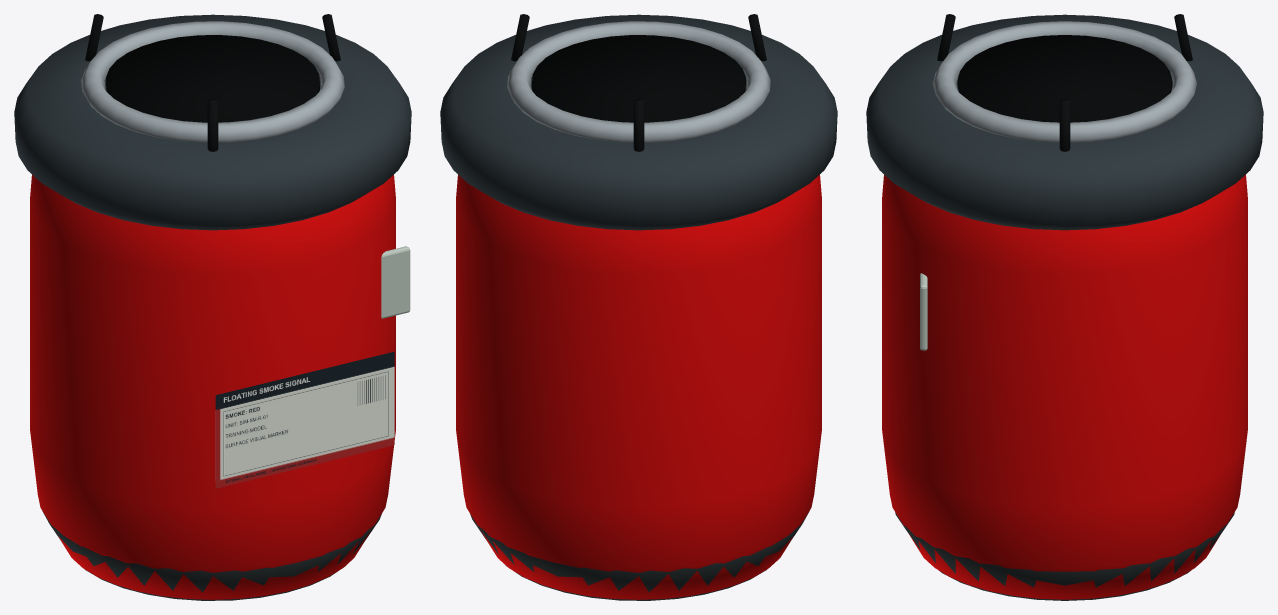
File: floating_smoke_signal_red.glb
The picture shows the model from 3 angles, left to right: view 1: azimuth 30°, elevation 25°; view 2: azimuth 150°, elevation 25°; view 3: azimuth 270°, elevation 25°; orthographic projection.
Parts seen in each view (by area): view 1: SMOKE_BODY, TOP_CAP_DARK, LABEL_SMOKE_ORANGE, GRAPHIC_EMISSION_OPENING, EMISSION_FINISH_RIM, LOWER_CONTRAST_BASE, TECHNICAL_PLATE, TOP_DECORATIVE_GUARD_3; view 2: SMOKE_BODY, TOP_CAP_DARK, GRAPHIC_EMISSION_OPENING, EMISSION_FINISH_RIM, LOWER_CONTRAST_BASE, TOP_DECORATIVE_GUARD_2; view 3: SMOKE_BODY, TOP_CAP_DARK, GRAPHIC_EMISSION_OPENING, EMISSION_FINISH_RIM, LOWER_CONTRAST_BASE, TOP_DECORATIVE_GUARD_1, TECHNICAL_PLATE.
Boxes of the visible parts, x1,y1,x2,y2 form: SMOKE_BODY: (30, 175, 395, 599); TOP_CAP_DARK: (14, 14, 411, 230); LABEL_SMOKE_ORANGE: (215, 351, 394, 488); GRAPHIC_EMISSION_OPENING: (106, 35, 319, 122); EMISSION_FINISH_RIM: (81, 21, 344, 142); LOWER_CONTRAST_BASE: (42, 511, 381, 600); TECHNICAL_PLATE: (381, 246, 410, 318); TOP_DECORATIVE_GUARD_3: (207, 99, 218, 151); SMOKE_BODY: (456, 175, 821, 599); TOP_CAP_DARK: (440, 14, 837, 230); GRAPHIC_EMISSION_OPENING: (532, 35, 745, 122); EMISSION_FINISH_RIM: (507, 21, 770, 142); LOWER_CONTRAST_BASE: (470, 511, 809, 600); TOP_DECORATIVE_GUARD_2: (633, 99, 644, 151); SMOKE_BODY: (882, 174, 1247, 599); TOP_CAP_DARK: (866, 14, 1263, 230); GRAPHIC_EMISSION_OPENING: (957, 35, 1172, 122); EMISSION_FINISH_RIM: (933, 21, 1196, 142); LOWER_CONTRAST_BASE: (895, 512, 1234, 600); TOP_DECORATIVE_GUARD_1: (1059, 99, 1070, 151); TECHNICAL_PLATE: (920, 273, 927, 350).
Bounding box in the file's own units: 0.304 × 0.4278 × 0.304.
8 materials, 1 textured.
